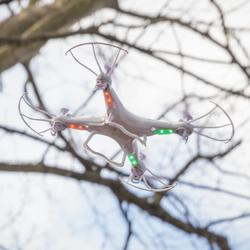drone: (18, 41, 235, 192)
